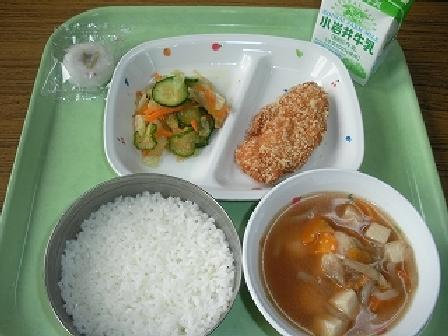Milk: (303, 2, 413, 74)
Rice: (52, 183, 241, 333)
Soups: (253, 177, 432, 335)
cutlet: (236, 73, 340, 186)
salad with sauce: (120, 62, 232, 170)
